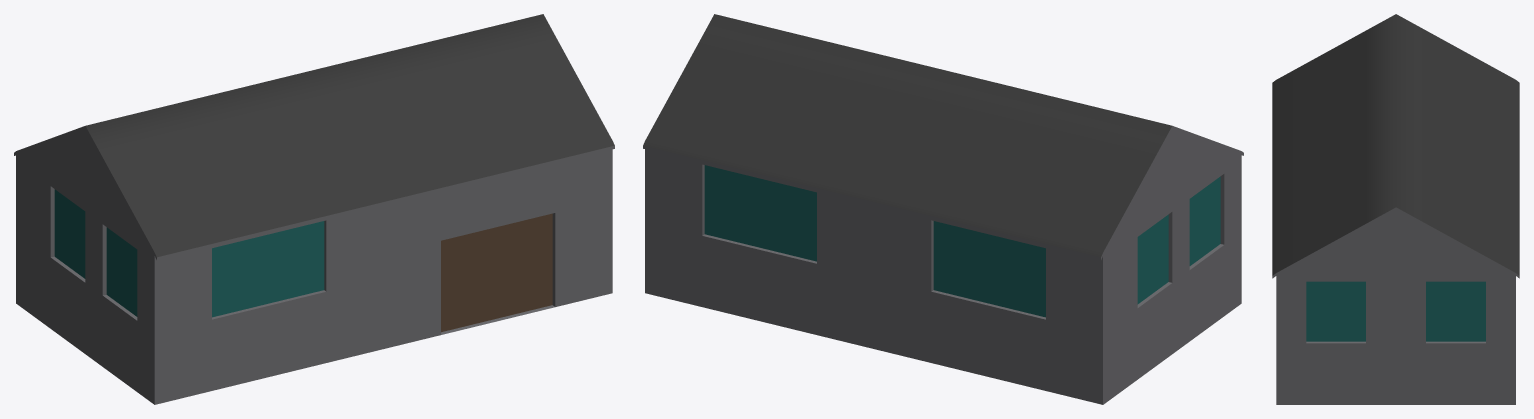
The model's file is House2-3.fbx.
3 renders of one model, left to right at view 1: azimuth 30°, elevation 25°; view 2: azimuth 150°, elevation 25°; view 3: azimuth 270°, elevation 25°, orthographic. The views are drawn at different scales.
Parts seen in each view (by area): view 1: pCube1.003; view 2: pCube1.003; view 3: pCube1.003.
Boxes of the visible parts, box(x1,y1,x2,y2) form: pCube1.003: box(14, 14, 614, 404); pCube1.003: box(643, 14, 1243, 404); pCube1.003: box(1272, 14, 1519, 404).
Size of the model in its own units: 23.9 by 11.4 by 12.91.
